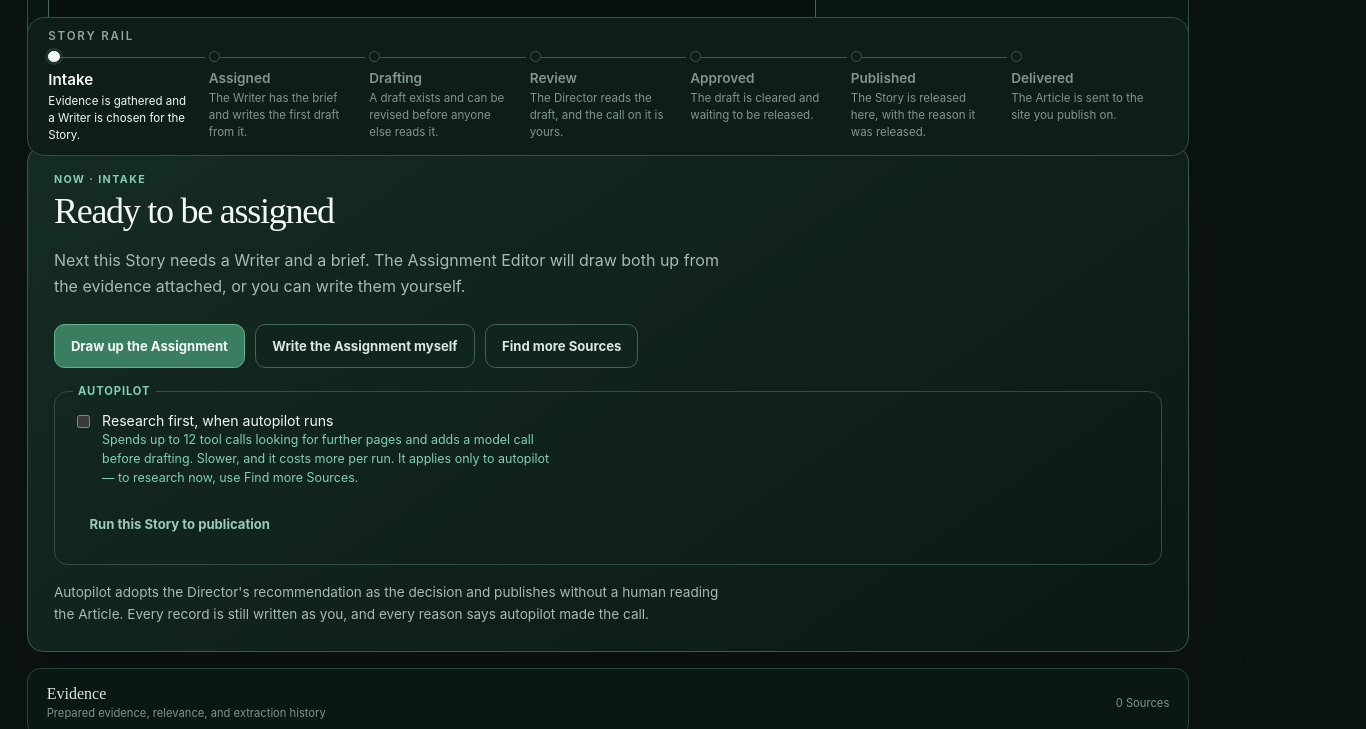
Test: Director review workspace › uses the shared pending surface for the Assignment Editor
(page scrolled)
Click the button "Draw up the Assignment" at [149, 346], box [54, 324, 245, 368]
(page scrolled)
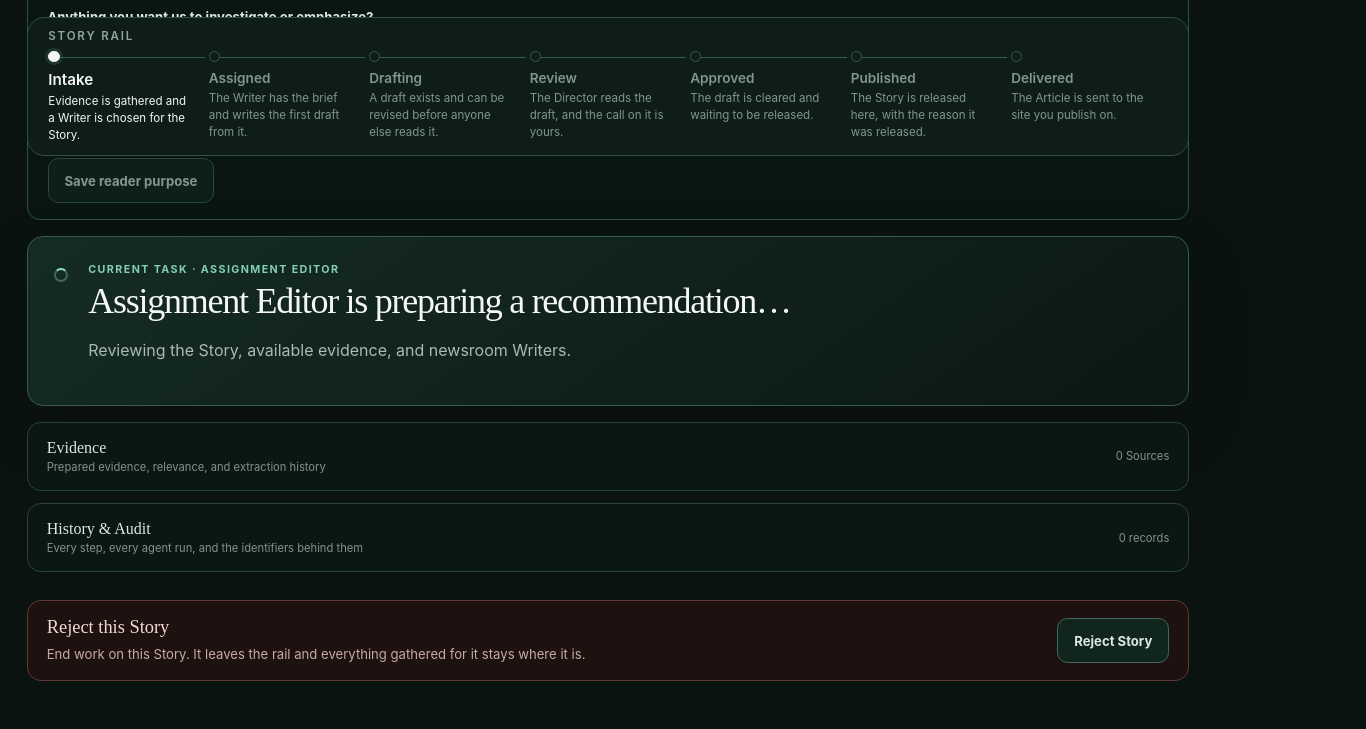
Result: the button "Draw up the Assignment" is gone
